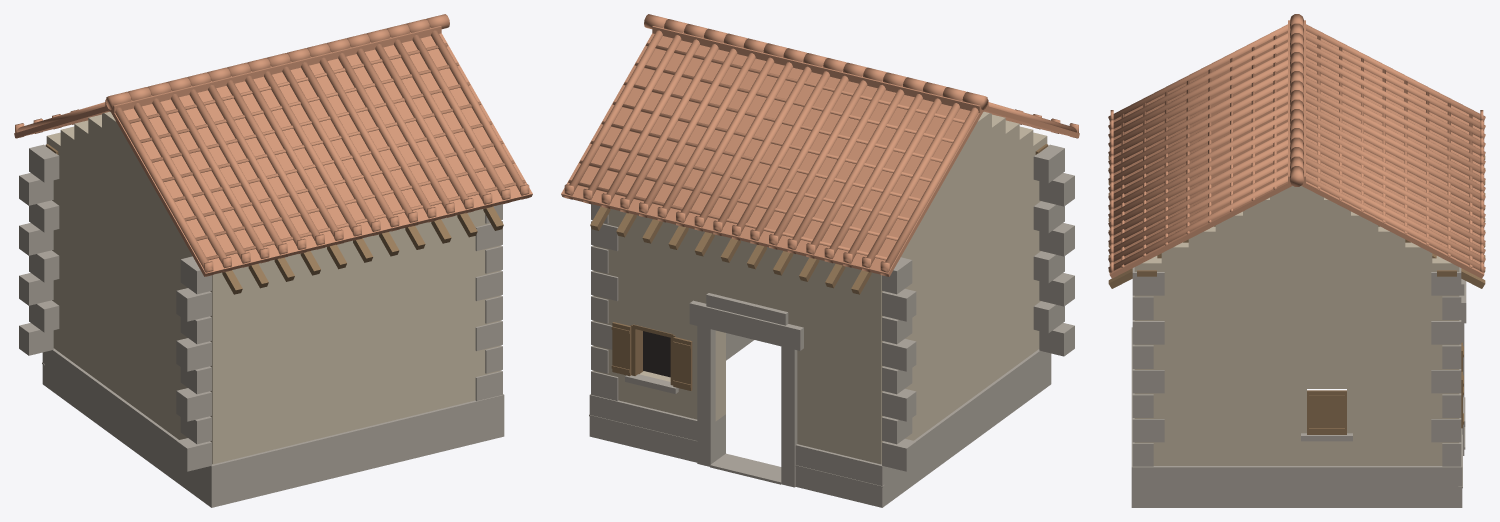
The model's file is gatehouse.glb.
3 renders of one model, left to right at view 1: azimuth 30°, elevation 25°; view 2: azimuth 150°, elevation 25°; view 3: azimuth 270°, elevation 25°, orthographic. The views are drawn at different scales.
Parts seen in each view (by area): view 1: walls, tiles, stone, roofdeck, timber; view 2: walls, stone, tiles, roofdeck, timber, darkglass; view 3: walls, tiles, stone, roofdeck, timber.
Part boxes in pixels (x1=…): walls: x1=46, y1=111, x2=500, y2=464; tiles: x1=15, y1=14, x2=529, y2=276; stone: x1=19, y1=144, x2=504, y2=507; roofdeck: x1=14, y1=26, x2=532, y2=276; timber: x1=45, y1=144, x2=503, y2=294; walls: x1=593, y1=111, x2=1047, y2=464; stone: x1=589, y1=144, x2=1074, y2=507; tiles: x1=564, y1=14, x2=1078, y2=276; roofdeck: x1=561, y1=26, x2=1079, y2=276; timber: x1=590, y1=144, x2=1048, y2=390; darkglass: x1=643, y1=331, x2=670, y2=377; walls: x1=1134, y1=186, x2=1459, y2=465; tiles: x1=1108, y1=14, x2=1485, y2=272; stone: x1=1131, y1=267, x2=1466, y2=507; roofdeck: x1=1109, y1=20, x2=1484, y2=278; timber: x1=1108, y1=155, x2=1485, y2=434.
Bounding box in the file's own units: 7.76 × 7.63 × 7.55.
